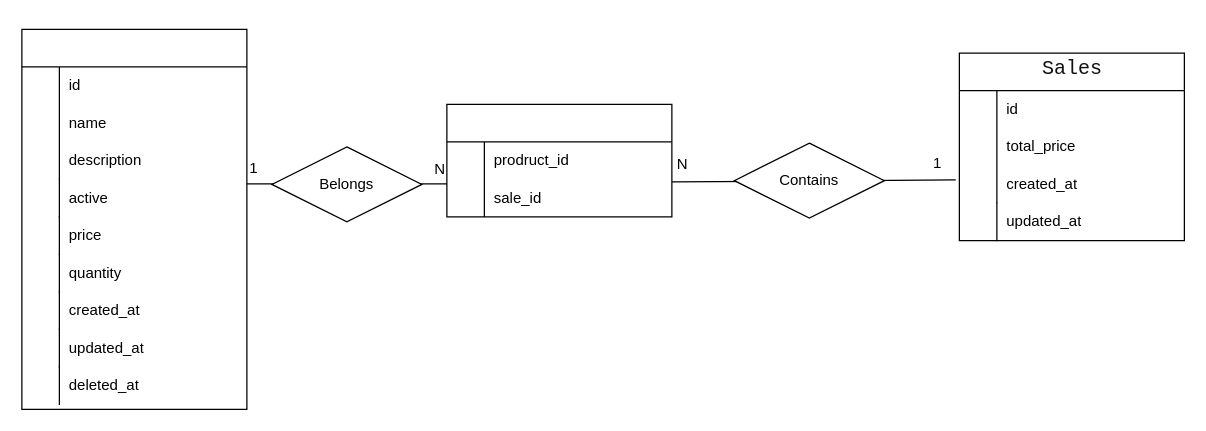
Image size: 1206x431. Some labels were removed from this diagram. The box of each missing label's shape, as (x1, y1, x2, y2) in pixels:
Products: (21, 28, 247, 409)
Sale_Products: (446, 103, 672, 217)
